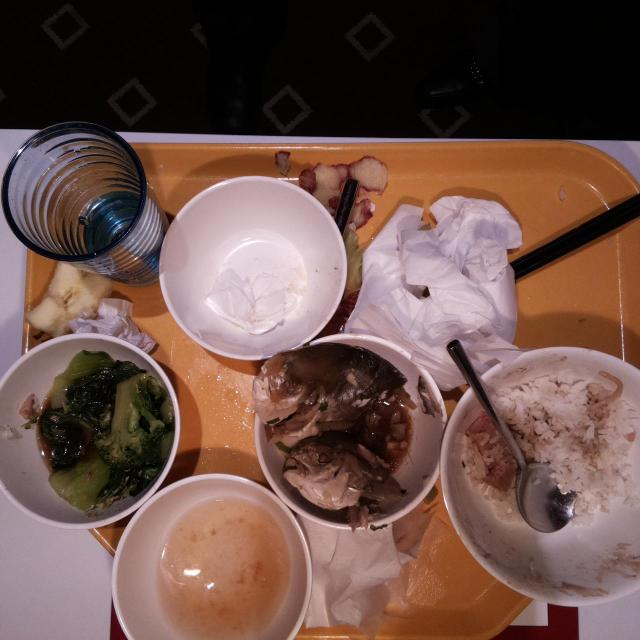Apple-core: (24, 247, 114, 337)
Apple-peel: (299, 154, 387, 204)
Bone: (414, 375, 440, 422)
Rice: (460, 376, 638, 524)
Vegetable: (36, 352, 152, 498)
